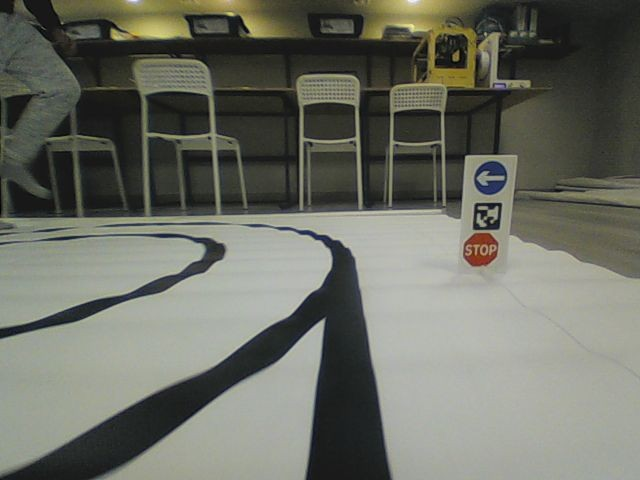Stop: (462, 230, 498, 267)
